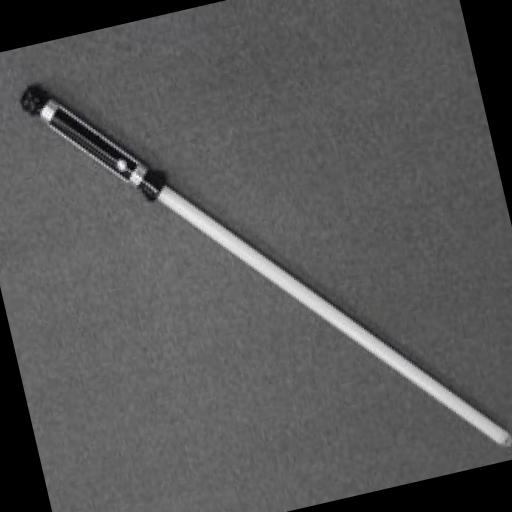lightsaber: (21, 2, 510, 512)
